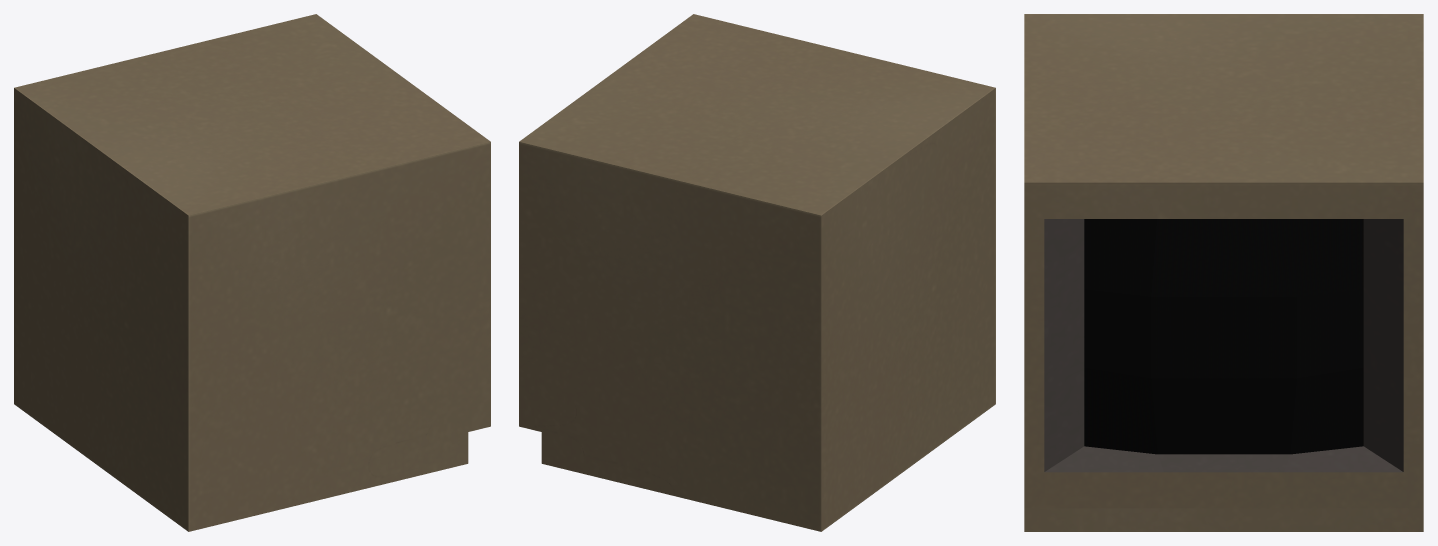
File: Display.glb
The picture shows the model from 3 angles, left to right: view 1: azimuth 30°, elevation 25°; view 2: azimuth 150°, elevation 25°; view 3: azimuth 270°, elevation 25°; orthographic projection. The views are drawn at different scales.
Visible parts, largest first — view 1: Cube.001; view 2: Cube.001; view 3: Cube.001.
Part boxes in pixels (left/top/right/bottom): Cube.001: left=14, top=14, right=490, bottom=531; Cube.001: left=519, top=14, right=995, bottom=531; Cube.001: left=1024, top=14, right=1423, bottom=531.
Bounding box in the file's own units: 2 × 2 × 2.
1 material, 1 textured.
